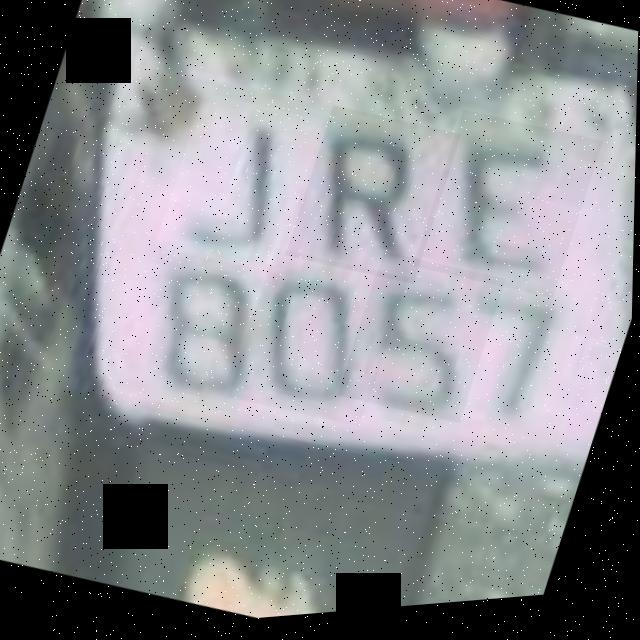0: (228, 244, 409, 441)
5: (339, 250, 507, 439)
7: (426, 258, 603, 455)
8: (116, 233, 302, 433)
E: (413, 109, 603, 317)
J: (155, 89, 325, 285)
R: (285, 102, 462, 299)
